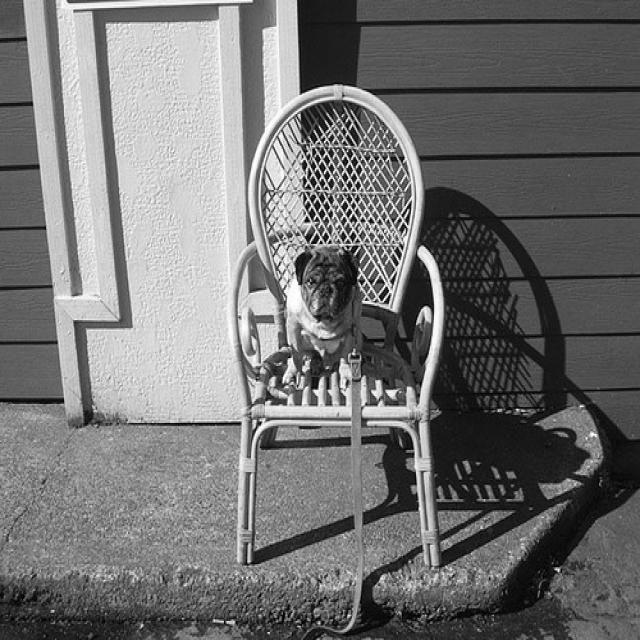dog: (279, 241, 361, 388)
